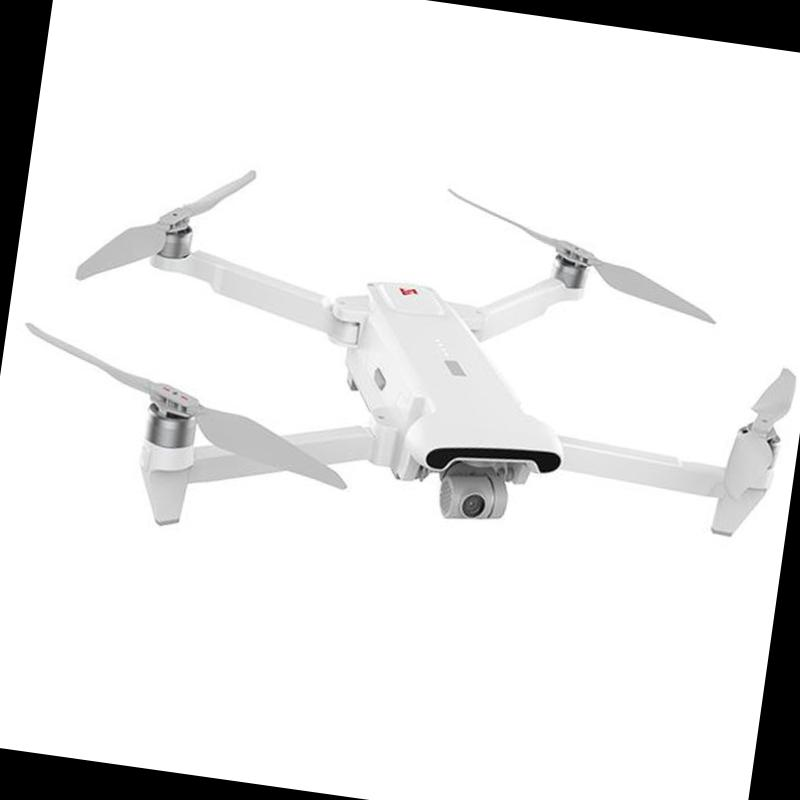drone: (10, 154, 800, 620)
